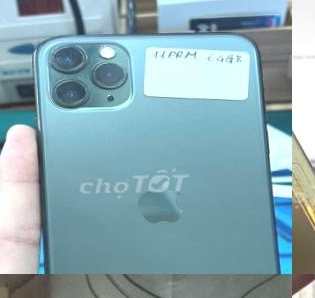scratch: (44, 37, 129, 108), (292, 146, 315, 274)
